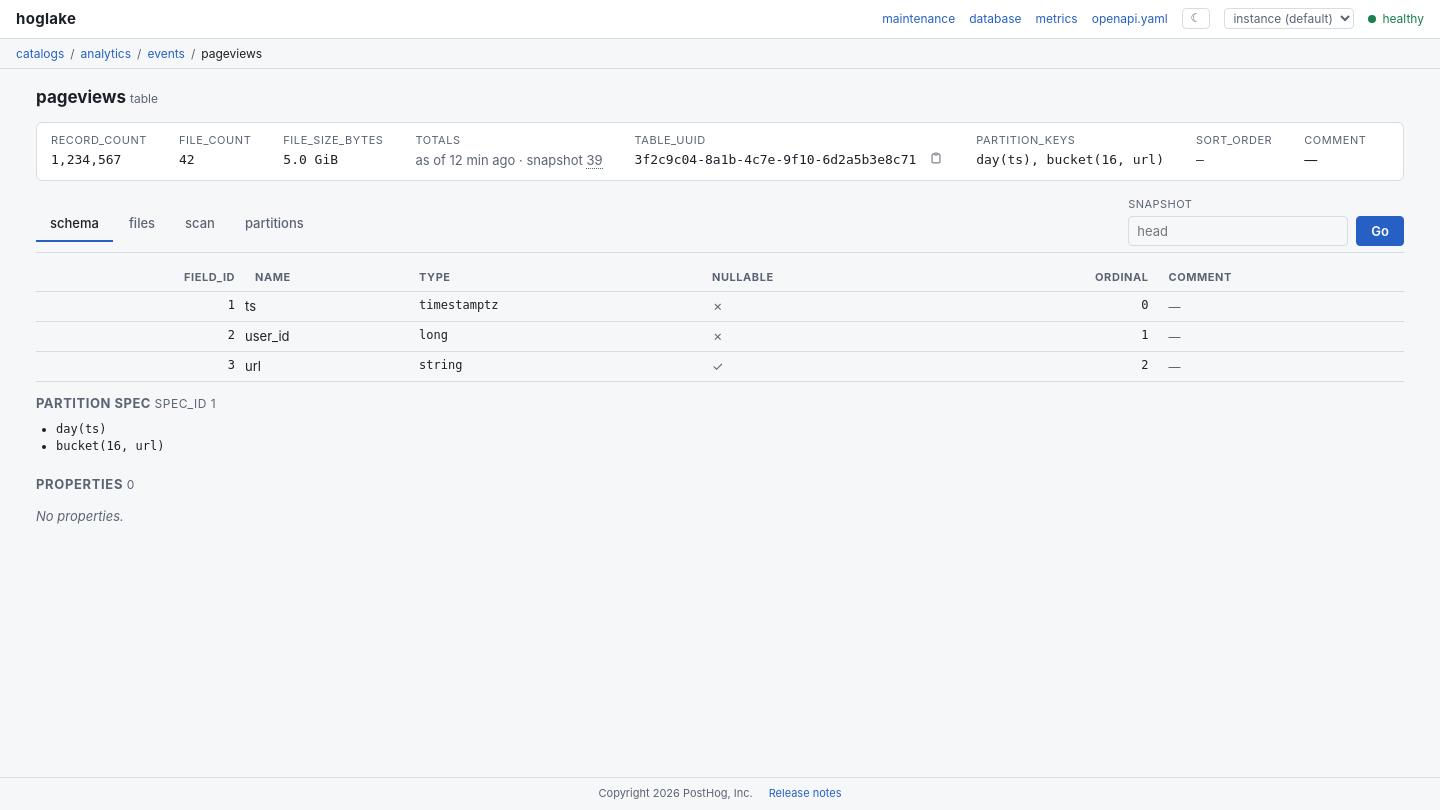
Test case: TablePage partitions tab › says so plainly when the catalog has no sample yet
The width and height of the screenshot is (1440, 810).
Click the tab "partitions" at [274, 224], box [231,207,318,242]
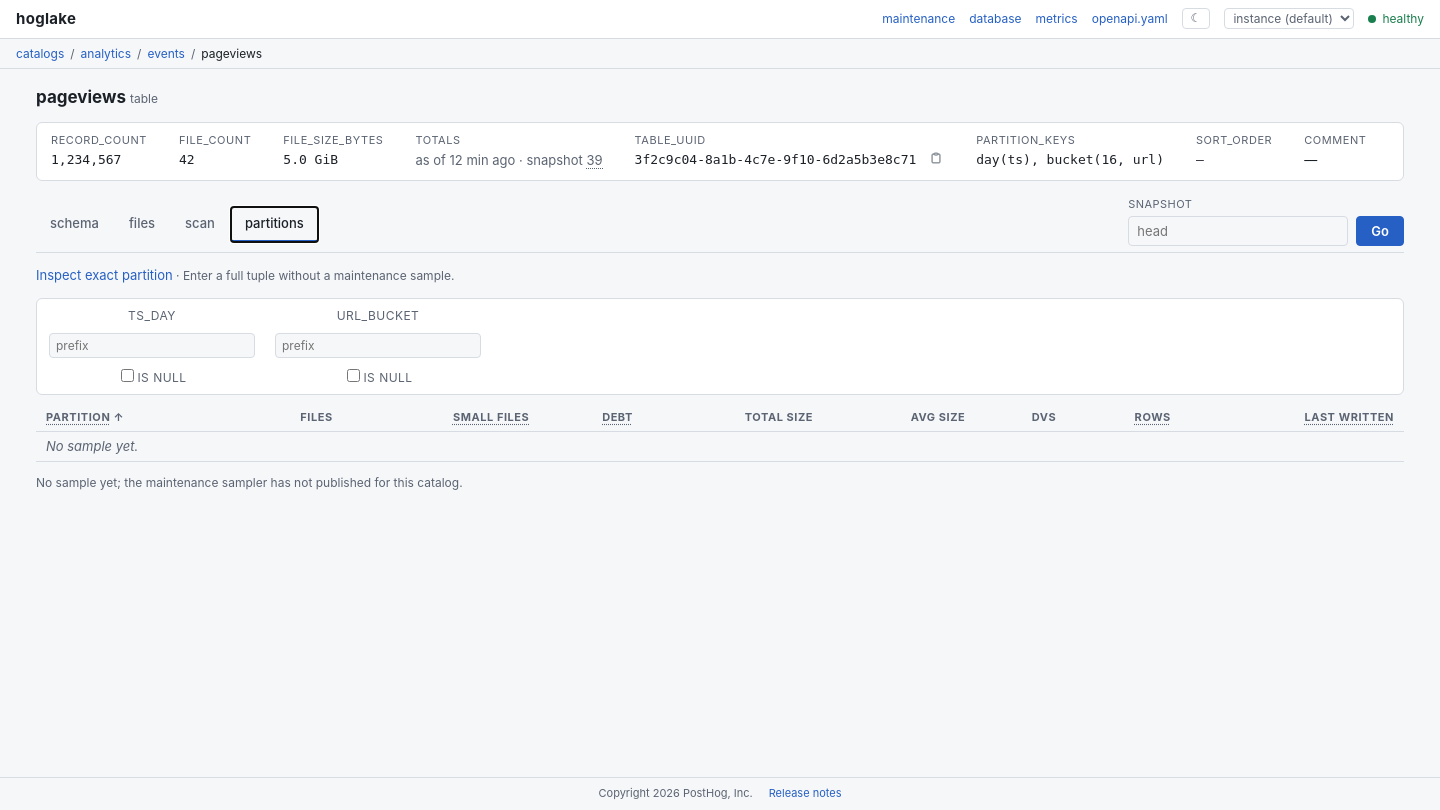
Expected: the text "No sample yet; the maintenance sampler has not published for this catalog." is shown, [36,475,463,490]
Expected: the text "No sample yet." is shown, [36,432,1404,462]
